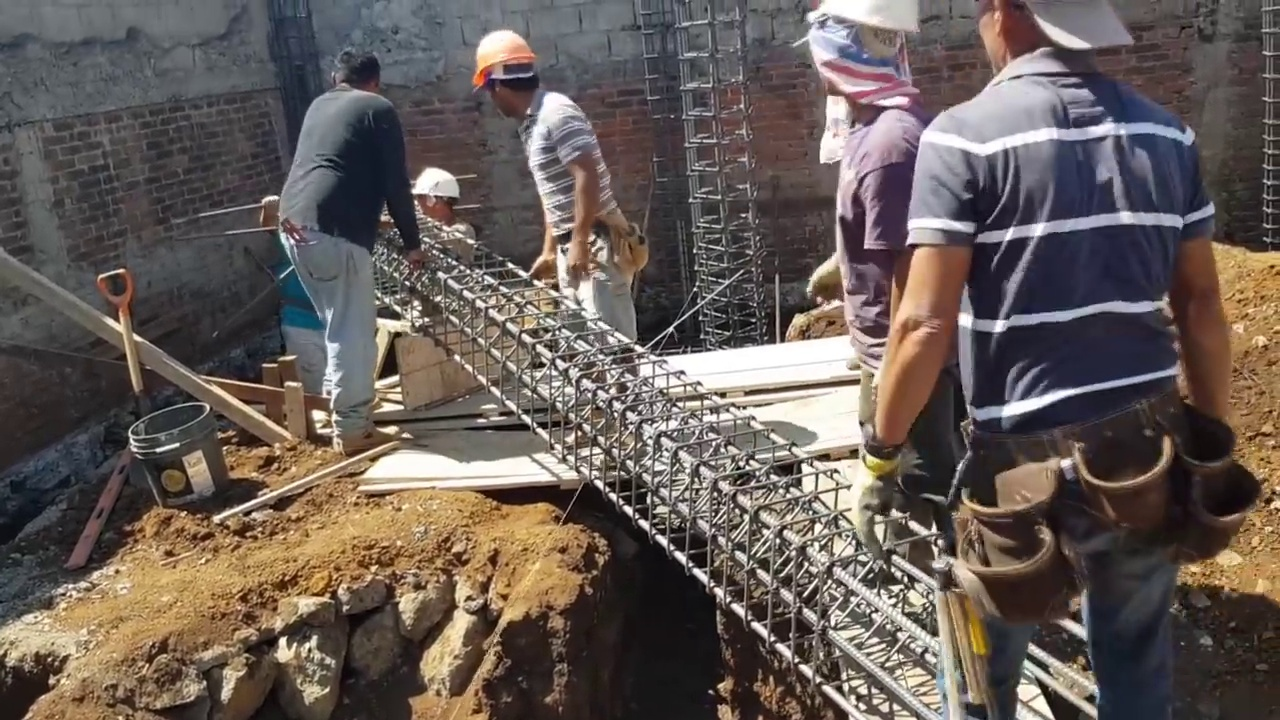helmet: (468, 26, 544, 91), (807, 1, 921, 35), (411, 161, 463, 202)
helmet-off: (976, 0, 1133, 79), (335, 54, 379, 95)
helmet-on: (804, 0, 924, 134), (467, 27, 543, 125), (411, 162, 463, 223)
person: (869, 1, 1241, 720), (273, 50, 421, 464), (806, 0, 934, 471), (467, 26, 636, 365), (409, 160, 478, 264)
